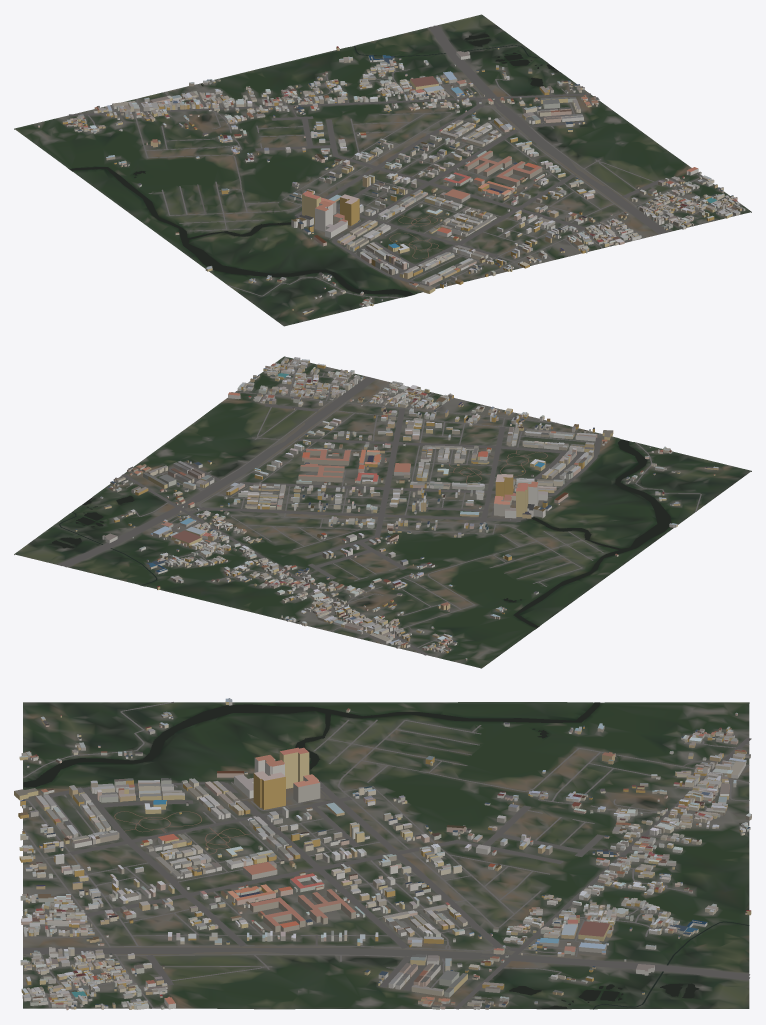
3 renders of one model, top to bottom at view 1: azimuth 30°, elevation 25°; view 2: azimuth 150°, elevation 25°; view 3: azimuth 270°, elevation 25°, orthographic. The views are drawn at different scales.
Parts seen in each view (by area): view 1: ground, buildings, roads, water; view 2: ground, buildings, roads, water; view 3: ground, buildings, roads, water.
Part boxes in pixels (x1,y1,x2,y2): ground: [14, 14, 751, 326]; buildings: [38, 46, 745, 314]; roads: [69, 25, 740, 298]; water: [70, 33, 558, 296]; ground: [14, 356, 751, 668]; buildings: [75, 357, 718, 660]; roads: [58, 364, 701, 655]; water: [52, 439, 671, 627]; ground: [23, 702, 749, 1009]; buildings: [14, 698, 751, 1010]; roads: [22, 702, 751, 1009]; water: [23, 702, 749, 1009].
Bounding box in the file's own units: 1410 × 77.99 × 1423.
